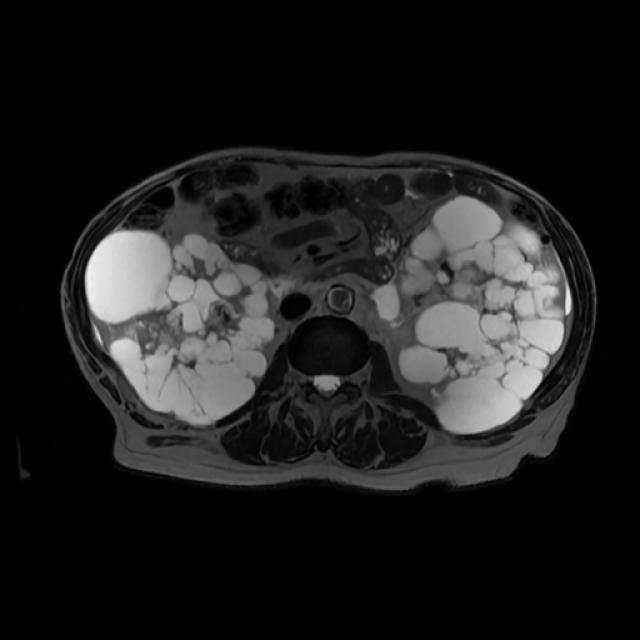sag: (83, 228, 276, 426)
sol: (370, 197, 566, 434)
